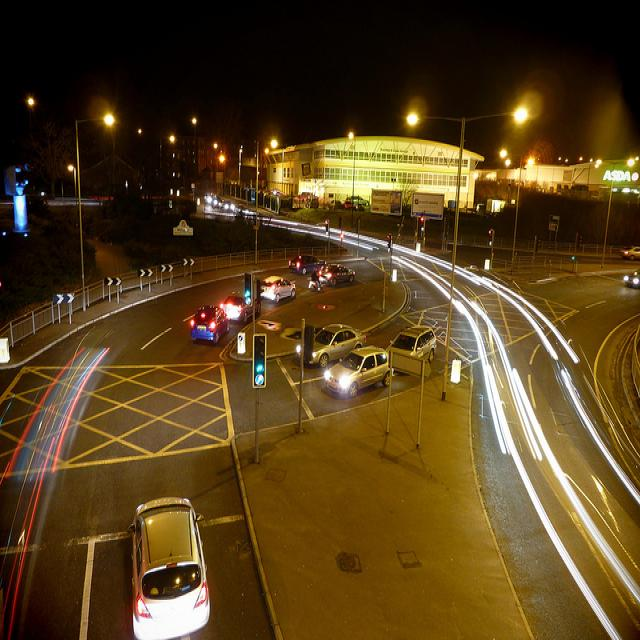Vehicle: (127, 496, 211, 640), (325, 345, 390, 398), (295, 324, 367, 367), (386, 322, 438, 362), (190, 305, 230, 343), (220, 292, 261, 324), (261, 276, 295, 304), (318, 264, 355, 287), (288, 255, 325, 275), (623, 264, 640, 291), (619, 245, 640, 260)
